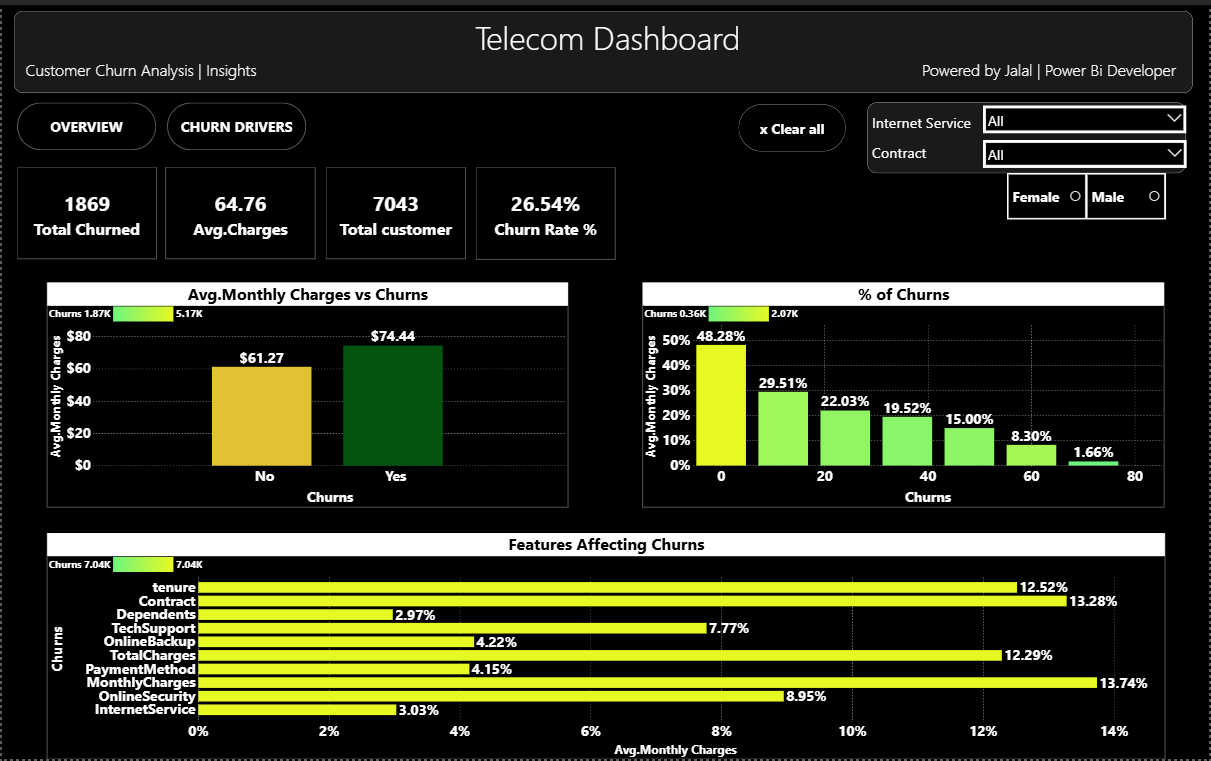

The page's visual inventory and layout, read from the dashboard file:
{"tool":"powerbi","page":{"name":"TELECOM DASHBOARD","canvas":[4000,2500],"ordinal":0},"visuals":[{"type":"textbox","box":[38.8,19.4,3907.9,271.5],"z":0},{"type":"actionButton","box":[49.7,321.7,461.5,158.1],"z":0,"group":"g1"},{"type":"textbox","box":[2871.3,325.3,1054.4,233.8],"z":0,"group":"g2"},{"type":"actionButton","box":[545.1,321.7,461.5,158.1],"z":1000,"group":"g1"},{"type":"slicer","fields":{"Values":["churn_dashboard_data_decoded.InternetService"]},"box":[3255.3,337.3,673.9,92.1],"z":1000,"group":"g2"},{"type":"card","fields":{"Values":["Table.Total churned customers"]},"box":[50.8,536.5,463.1,305],"z":1000},{"type":"actionButton","box":[2439.8,327.6,355.8,158.1],"z":2000},{"type":"slicer","fields":{"Values":["churn_dashboard_data_decoded.Contract"]},"box":[3256.2,447.8,675,92.5],"z":2000,"group":"g2"},{"type":"advancedSlicerVisual","fields":{"Values":["churn_dashboard_data_decoded.gender"]},"box":[3330.2,557,527.2,154.2],"z":7000},{"type":"group","id":"g1","title":"Group 2","box":[49.7,321.7,956.9,158.1],"z":8000},{"type":"group","id":"g2","title":"Group 3","box":[2871.3,325.3,1059.9,233.8],"z":9000},{"type":"card","fields":{"Values":["Table.avg monthly charges"]},"box":[542.2,536.5,497,305],"z":10000},{"type":"card","fields":{"Values":["Table.Total customer"]},"box":[1073.1,536.5,463.1,305],"z":11000},{"type":"card","fields":{"Values":["Table.Churn Rate %"]},"box":[1573.5,537.7,462,306.8],"z":12000},{"type":"columnChart","title":"Avg.Monthly Charges vs Churns","fields":{"Category":["churn_dashboard_data_decoded.Churn"],"Y":["Avg(churn_dashboard_data_decoded.MonthlyCharges)"]},"box":[146.8,920.6,1728.2,745.5],"z":13000},{"type":"clusteredColumnChart","title":"% of Churns","fields":{"Category":["churn_dashboard_data_decoded.tenure (bins)"],"Y":["Table.Churn Rate %"]},"box":[2125,920,1730,745],"z":14000},{"type":"clusteredBarChart","title":"Features Affecting Churns","fields":{"Y":["Sum(importances.Importance)"],"Category":["importances.Feature"]},"box":[148.4,1749.2,3707.1,750.3],"z":15000}]}

Visuals, with their boxes in screenshot pixels (x1, y1, x2, y2), scaled from the page's 4000x2500 canvas onto the 1211x761 screenshot:
textbox: BBox(12, 6, 1195, 89)
actionButton: BBox(15, 98, 155, 146)
textbox: BBox(869, 99, 1189, 170)
actionButton: BBox(165, 98, 305, 146)
slicer - churn_dashboard_data_decoded.InternetService: BBox(986, 103, 1190, 131)
card - Table.Total churned customers: BBox(15, 163, 156, 256)
actionButton: BBox(739, 100, 846, 148)
slicer - churn_dashboard_data_decoded.Contract: BBox(986, 136, 1190, 164)
advancedSlicerVisual - churn_dashboard_data_decoded.gender: BBox(1008, 170, 1168, 216)
"Group 2" group: BBox(15, 98, 305, 146)
"Group 3" group: BBox(869, 99, 1190, 170)
card - Table.avg monthly charges: BBox(164, 163, 315, 256)
card - Table.Total customer: BBox(325, 163, 465, 256)
card - Table.Churn Rate %: BBox(476, 164, 616, 257)
"Avg.Monthly Charges vs Churns" columnChart: BBox(44, 280, 568, 507)
"% of Churns" clusteredColumnChart: BBox(643, 280, 1167, 507)
"Features Affecting Churns" clusteredBarChart: BBox(45, 532, 1167, 760)
